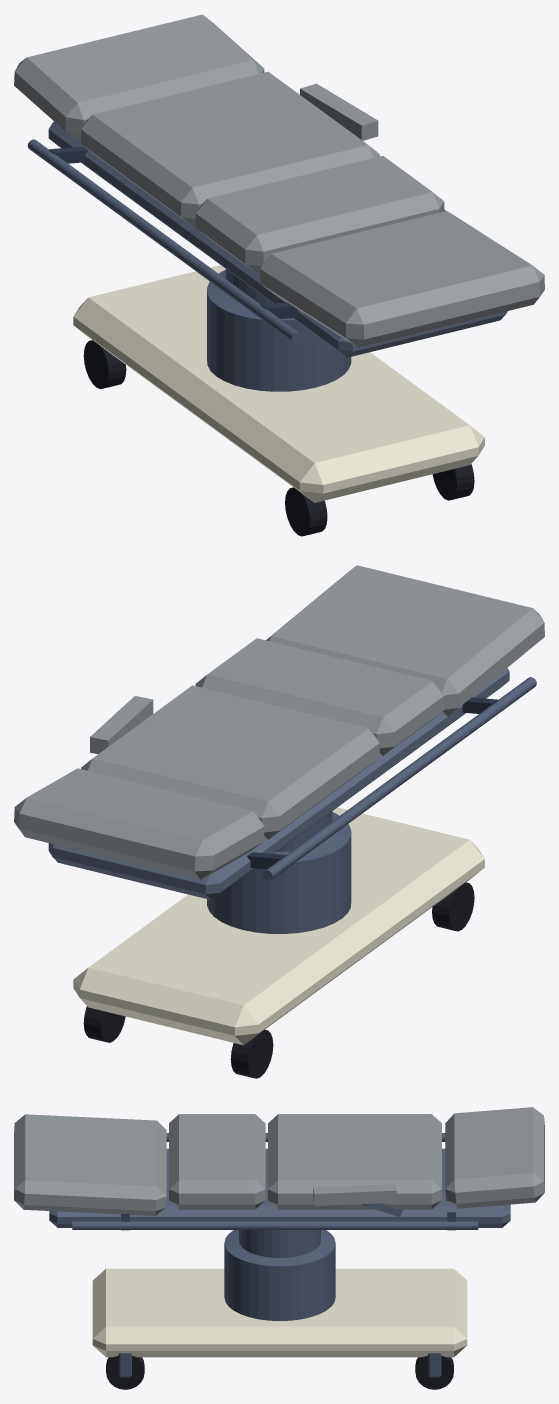
Rendered from bw_operating_table.glb.
The picture shows the model from 3 angles, top to bottom: view 1: azimuth 30°, elevation 25°; view 2: azimuth 150°, elevation 25°; view 3: azimuth 270°, elevation 25°; orthographic projection. The views are drawn at different scales.
Visible parts, largest first — view 1: arm_pad, rolling_base, arm_bracket, chassis, wheel, rail_standoff; view 2: arm_pad, rolling_base, arm_bracket, chassis, wheel, rail_standoff; view 3: arm_pad, rolling_base, arm_bracket, chassis, wheel.
Boxes of the visible parts, left/top/right/bottom form: arm_pad: left=14, top=14, right=544, bottom=347; rolling_base: left=73, top=265, right=484, bottom=502; arm_bracket: left=27, top=139, right=445, bottom=391; chassis: left=48, top=121, right=507, bottom=357; wheel: left=83, top=340, right=474, bottom=536; rail_standoff: left=48, top=146, right=297, bottom=318; arm_pad: left=14, top=565, right=544, bottom=879; rolling_base: left=73, top=807, right=484, bottom=1045; arm_bracket: left=207, top=677, right=536, bottom=933; chassis: left=48, top=668, right=509, bottom=899; wheel: left=83, top=882, right=474, bottom=1078; rail_standoff: left=247, top=697, right=498, bottom=869; arm_pad: left=14, top=1107, right=544, bottom=1215; rolling_base: left=92, top=1268, right=467, bottom=1357; arm_bracket: left=72, top=1133, right=478, bottom=1377; chassis: left=49, top=1148, right=510, bottom=1227; wheel: left=106, top=1356, right=453, bottom=1389.
Size of the model in its own units: 0.9 by 0.9994 by 2.2.
